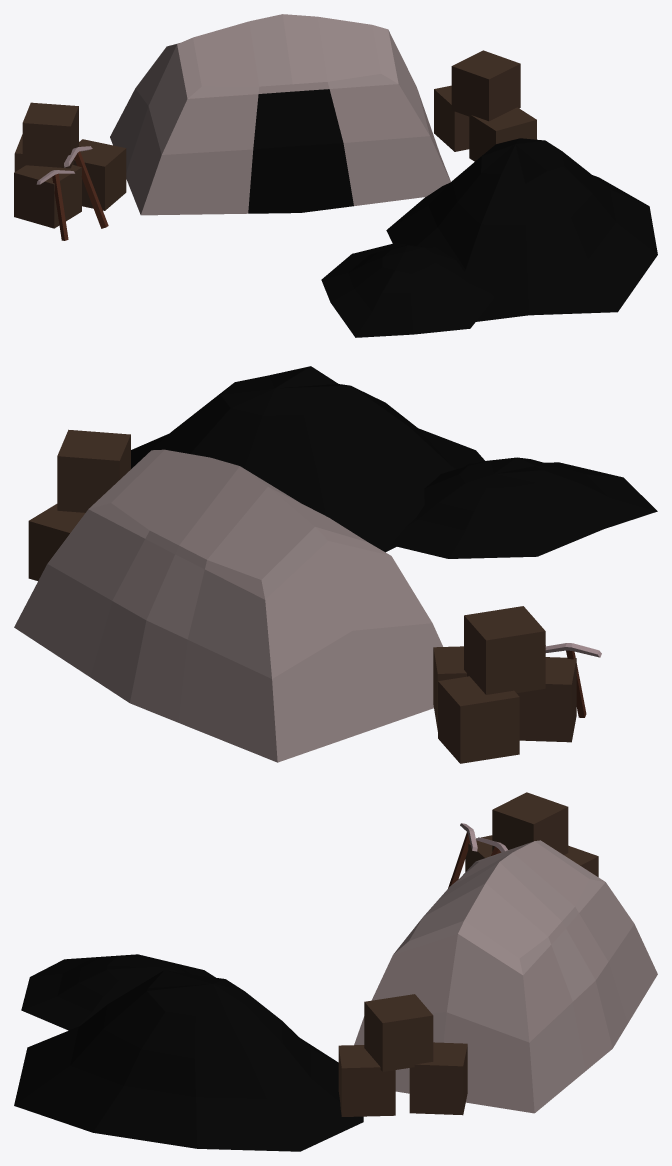
The model's file is Coal_Mining_Camp.fbx.
The picture shows the model from 3 angles, top to bottom: view 1: azimuth 30°, elevation 25°; view 2: azimuth 150°, elevation 25°; view 3: azimuth 270°, elevation 25°; orthographic projection. The views are drawn at different scales.
Parts seen in each view (by area): view 1: Cube.033, Sphere.067, Sphere.068, Cube.040, Cube.037, Cube.036, Cube.034, Cube.038, Cube.039, Cube.043, Cube.042; view 2: Cube.033, Sphere.067, Sphere.068, Cube.037, Cube.035, Cube.040, Cube.036, Cube.039, Cube.034, Cube.042; view 3: Cube.033, Sphere.067, Sphere.068, Cube.040, Cube.039, Cube.037, Cube.038, Cube.042, Cube.035.
Part boxes in pixels (box(x1,y1,x2,y2)): Cube.033: box(110, 14, 450, 215); Sphere.067: box(386, 138, 657, 321); Sphere.068: box(321, 243, 494, 337); Cube.040: box(451, 50, 520, 121); Cube.037: box(22, 102, 78, 168); Cube.036: box(14, 164, 81, 228); Cube.034: box(73, 139, 126, 210); Cube.038: box(469, 107, 536, 161); Cube.039: box(434, 85, 469, 151); Cube.043: box(64, 146, 108, 228); Cube.042: box(36, 170, 74, 240); Cube.033: box(14, 449, 442, 762); Sphere.067: box(131, 366, 484, 552); Sphere.068: box(391, 457, 657, 558); Cube.037: box(464, 606, 545, 694); Cube.035: box(438, 676, 519, 763); Cube.040: box(57, 429, 130, 512); Cube.036: box(517, 657, 576, 742); Cube.039: box(28, 504, 85, 580); Cube.034: box(433, 646, 466, 731); Cube.042: box(545, 643, 601, 717); Cube.033: box(354, 840, 657, 1113); Sphere.067: box(14, 970, 363, 1151); Sphere.068: box(21, 954, 215, 1030); Cube.040: box(364, 994, 433, 1071); Cube.039: box(409, 1042, 467, 1115); Cube.037: box(492, 792, 568, 854); Cube.038: box(338, 1045, 395, 1116); Cube.042: box(448, 823, 477, 888); Cube.035: box(564, 845, 598, 877).
Bounding box in the file's own units: 186 × 59.73 × 191.
